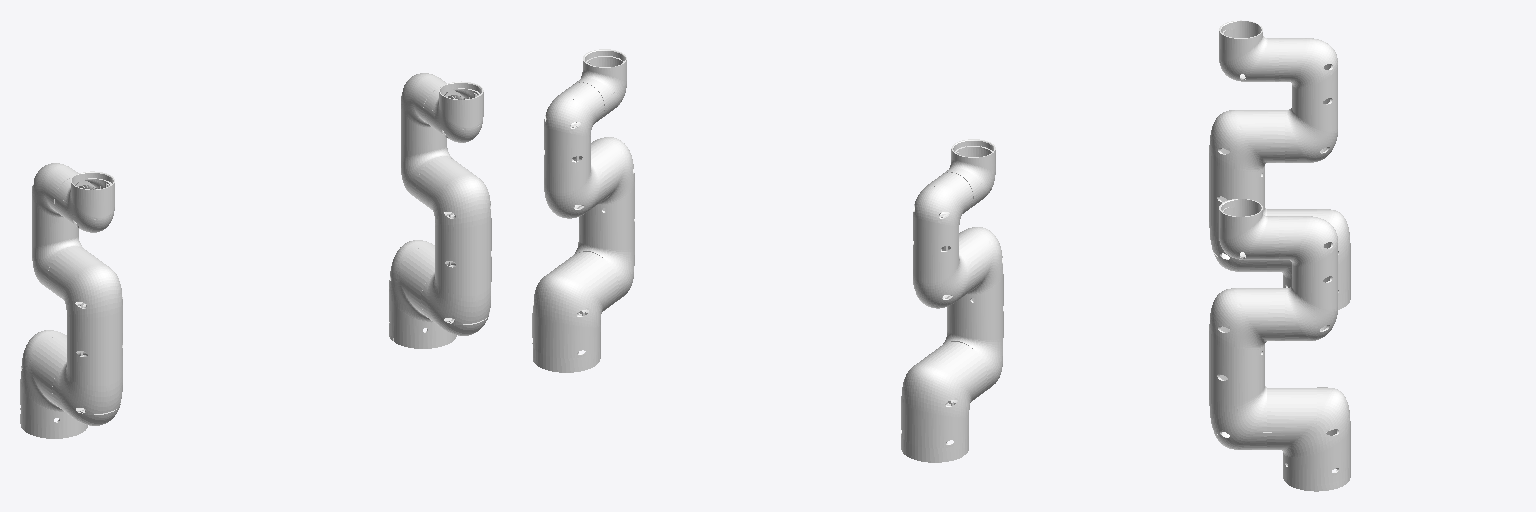
URDF robot description (dual_arm_robot):
<?xml version="1.0" ?>
<!-- =================================================================================== -->
<!-- |    This document was autogenerated by xacro from dual_arm_robot.xacro           | -->
<!-- |    EDITING THIS FILE BY HAND IS NOT RECOMMENDED                                 | -->
<!-- =================================================================================== -->
<robot name="dual_arm_robot">
  <!-- <!-\-ros_control -->
  <!-- plugin-\-> -->
  <!-- <gazebo> -->
  <!--   <plugin name="gazebo_ros_control" filename="libgazebo_ros_control.so" /> -->
  <!-- </gazebo> -->
  <!-- <!-\-joint_state_publisher -->
  <!-- plugin-\-> -->
  <!-- <gazebo> -->
  <!--   <plugin name="joint_state_publisher" filename="libgazebo_ros_joint_state_publisher.so"> -->
  <!--     <jointName>arm_joint_0, arm_joint_1, arm_joint_2, arm_joint_3, arm_joint_4, arm_joint_5</jointName> -->
  <!--   </plugin> -->
  <!-- </gazebo> -->
  <link name="world"/>
  <joint name="arm_a_world2base" type="fixed">
    <parent link="world"/>
    <child link="arm_a_base_link"/>
    <origin rpy="0 0 0" xyz="0 0 0"/>
  </joint>
  <link name="arm_a_base_link">
    <visual>
      <geometry>
        <mesh filename="package://mycobot_320_moveit/urdf/320_urdf/base.dae"/>
      </geometry>
      <origin rpy=" 0 0 3.1415926" xyz="0 0 0 "/>
    </visual>
    <collision>
      <origin rpy=" 0 0 3.1415926" xyz="0 0 0.05 "/>
      <geometry>
        <cylinder length="0.100" radius="0.0725"/>
      </geometry>
    </collision>
    <inertial>
      <mass value="1.0"/>
      <inertia ixx="0.00218" ixy="0.0" ixz="0.0" iyy="0.00218" iyz="0.0" izz="0.00263"/>
    </inertial>
  </link>
  <link name="arm_a_link1">
    <visual>
      <geometry>
        <mesh filename="package://mycobot_320_moveit/urdf/320_urdf/link1_1.dae"/>
      </geometry>
      <origin rpy=" 0 0 0" xyz="0 0 0 "/>
    </visual>
    <collision>
      <origin rpy=" 0 0 0" xyz="0 0 -0.02 "/>
      <geometry>
        <cylinder length="0.106" radius="0.043"/>
      </geometry>
    </collision>
    <inertial>
      <mass value="0.5"/>
      <inertia ixx="0.00070" ixy="0.0" ixz="0.0" iyy="0.00070" iyz="0.0" izz="0.00046"/>
    </inertial>
  </link>
  <link name="arm_a_link2">
    <visual>
      <geometry>
        <mesh filename="package://mycobot_320_moveit/urdf/320_urdf/link2.dae"/>
      </geometry>
      <origin rpy=" 0 0 3.1415926" xyz="0 0 0.0587 "/>
    </visual>
    <collision>
      <origin rpy="0 -1.5708 0" xyz="0.07 0 0.095 "/>
      <geometry>
        <cylinder length="0.18" radius="0.036"/>
      </geometry>
    </collision>
    <inertial>
      <mass value="0.7"/>
      <inertia ixx="0.00212" ixy="0.0" ixz="0.0" iyy="0.00212" iyz="0.0" izz="0.00045"/>
    </inertial>
  </link>
  <link name="arm_a_link3">
    <visual>
      <geometry>
        <mesh filename="package://mycobot_320_moveit/urdf/320_urdf/link3.dae"/>
      </geometry>
      <origin rpy=" 0 0 3.1415926" xyz="0 0 0.038 "/>
    </visual>
    <collision>
      <origin rpy=" 0 -1.5708 0" xyz="0.044 0 0 "/>
      <geometry>
        <cylinder length="0.14" radius="0.0305"/>
      </geometry>
    </collision>
    <inertial>
      <mass value="0.5"/>
      <inertia ixx="0.00093" ixy="0.0" ixz="0.0" iyy="0.00093" iyz="0.0" izz="0.00023"/>
    </inertial>
  </link>
  <link name="arm_a_link4">
    <visual>
      <geometry>
        <mesh filename="package://mycobot_320_moveit/urdf/320_urdf/link4.dae"/>
      </geometry>
      <origin rpy=" 0 0 0" xyz="0 -0.001 0 "/>
    </visual>
    <collision>
      <origin rpy=" 0 -1.5708 1.5708" xyz="0.0 -0.014 0 "/>
      <geometry>
        <cylinder length="0.083" radius="0.029"/>
      </geometry>
    </collision>
    <inertial>
      <mass value="0.2"/>
      <inertia ixx="0.00016" ixy="0.0" ixz="0.0" iyy="0.00016" iyz="0.0" izz="0.00008"/>
    </inertial>
  </link>
  <link name="arm_a_link5">
    <visual>
      <geometry>
        <mesh filename="package://mycobot_320_moveit/urdf/320_urdf/link5.dae"/>
      </geometry>
      <origin rpy=" 0  0 3.1415926" xyz="0 0.002  0 "/>
    </visual>
    <collision>
      <origin rpy=" 1.5708 1.5708 0" xyz="0 -0.01 0 "/>
      <geometry>
        <cylinder length="0.0849" radius="0.029"/>
      </geometry>
    </collision>
    <inertial>
      <mass value="0.2"/>
      <inertia ixx="0.00016" ixy="0.0" ixz="0.0" iyy="0.00016" iyz="0.0" izz="0.00008"/>
    </inertial>
  </link>
  <link name="arm_a_link6">
    <visual>
      <geometry>
        <mesh filename="package://mycobot_320_moveit/urdf/320_urdf/link6.dae"/>
      </geometry>
      <material name="grey">
        <color rgba="0.5 0.5 0.5 1"/>
      </material>
      <origin rpy=" 0 1.5708 0" xyz="-0.502 -0.090 -0.096 "/>
    </visual>
    <collision>
      <origin rpy=" 0 0 0" xyz="0.0 0 -0.01 "/>
      <geometry>
        <cylinder length="0.0225" radius="0.026"/>
      </geometry>
    </collision>
    <inertial>
      <mass value="0.2"/>
      <inertia ixx="0.00002" ixy="0.0" ixz="0.0" iyy="0.00002" iyz="0.0" izz="0.00003"/>
    </inertial>
  </link>
  <joint name="arm_a_arm_joint_0" type="revolute">
    <axis xyz="0 0 1"/>
    <limit effort="100.0" lower="-3.14" upper="3.14159" velocity="5"/>
    <parent link="arm_a_base_link"/>
    <child link="arm_a_link1"/>
    <origin rpy="0 0 0" xyz="0 0 0.17846"/>
  </joint>
  <joint name="arm_a_arm_joint_1" type="revolute">
    <axis xyz="0 0 1"/>
    <limit effort="100.0" lower="-3.14" upper="3.14159" velocity="5"/>
    <parent link="arm_a_link1"/>
    <child link="arm_a_link2"/>
    <origin rpy="0 -1.5708 1.5708" xyz="0 0 0"/>
  </joint>
  <joint name="arm_a_arm_joint_2" type="revolute">
    <axis xyz=" 0 0 1"/>
    <limit effort="100.0" lower="-3.14" upper="3.14159" velocity="5"/>
    <parent link="arm_a_link2"/>
    <child link="arm_a_link3"/>
    <origin rpy="0 0 0" xyz="0.13635 0 0   "/>
  </joint>
  <joint name="arm_a_arm_joint_3" type="revolute">
    <axis xyz=" 0 0 1"/>
    <limit effort="100.0" lower="-3.14" upper="3.14159" velocity="5"/>
    <parent link="arm_a_link3"/>
    <child link="arm_a_link4"/>
    <origin rpy=" 0 0 1.57080" xyz="0.1 0 0.09 "/>
  </joint>
  <joint name="arm_a_arm_joint_4" type="revolute">
    <axis xyz="0 0 1"/>
    <limit effort="100.0" lower="-3.14" upper="3.14159" velocity="5"/>
    <parent link="arm_a_link4"/>
    <child link="arm_a_link5"/>
    <origin rpy="1.5708 -1.5708 0" xyz="0 -0.07318 0"/>
  </joint>
  <joint name="arm_a_arm_joint_5" type="revolute">
    <axis xyz="0 0 1"/>
    <limit effort="100.0" lower="-3.14" upper="3.14159" velocity="5"/>
    <parent link="arm_a_link5"/>
    <child link="arm_a_link6"/>
    <origin rpy="-1.5708 0 0" xyz="0.00 0.06635 0"/>
  </joint>
  <transmission name="arm_a_arm_tran_0">
    <type>transmission_interface/SimpleTransmission</type>
    <joint name="arm_a_arm_joint_0">
      <hardwareInterface>hardware_interface/PositionJointInterface</hardwareInterface>
    </joint>
    <actuator name="arm_a_arm_motor_0">
      <hardwareInterface>PositionJointInterface</hardwareInterface>
      <mechanicalReduction>1</mechanicalReduction>
    </actuator>
  </transmission>
  <transmission name="arm_a_arm_tran_1">
    <type>transmission_interface/SimpleTransmission</type>
    <joint name="arm_a_arm_joint_1">
      <hardwareInterface>hardware_interface/PositionJointInterface</hardwareInterface>
    </joint>
    <actuator name="arm_a_arm_motor_1">
      <hardwareInterface>PositionJointInterface</hardwareInterface>
      <mechanicalReduction>1</mechanicalReduction>
    </actuator>
  </transmission>
  <transmission name="arm_a_arm_tran_2">
    <type>transmission_interface/SimpleTransmission</type>
    <joint name="arm_a_arm_joint_2">
      <hardwareInterface>hardware_interface/PositionJointInterface</hardwareInterface>
    </joint>
    <actuator name="arm_a_arm_motor_2">
      <hardwareInterface>PositionJointInterface</hardwareInterface>
      <mechanicalReduction>1</mechanicalReduction>
    </actuator>
  </transmission>
  <transmission name="arm_a_arm_tran_3">
    <type>transmission_interface/SimpleTransmission</type>
    <joint name="arm_a_arm_joint_3">
      <hardwareInterface>hardware_interface/PositionJointInterface</hardwareInterface>
    </joint>
    <actuator name="arm_a_arm_motor_3">
      <hardwareInterface>PositionJointInterface</hardwareInterface>
      <mechanicalReduction>1</mechanicalReduction>
    </actuator>
  </transmission>
  <transmission name="arm_a_arm_tran_4">
    <type>transmission_interface/SimpleTransmission</type>
    <joint name="arm_a_arm_joint_4">
      <hardwareInterface>hardware_interface/PositionJointInterface</hardwareInterface>
    </joint>
    <actuator name="arm_a_arm_motor_4">
      <hardwareInterface>PositionJointInterface</hardwareInterface>
      <mechanicalReduction>1</mechanicalReduction>
    </actuator>
  </transmission>
  <transmission name="arm_a_arm_tran_5">
    <type>transmission_interface/SimpleTransmission</type>
    <joint name="arm_a_arm_joint_5">
      <hardwareInterface>hardware_interface/PositionJointInterface</hardwareInterface>
    </joint>
    <actuator name="arm_a_arm_motor_5">
      <hardwareInterface>PositionJointInterface</hardwareInterface>
      <mechanicalReduction>1</mechanicalReduction>
    </actuator>
  </transmission>
  <joint name="arm_b_world2base" type="fixed">
    <parent link="world"/>
    <child link="arm_b_base_link"/>
    <origin rpy="0 0 0" xyz="0.5 0 0"/>
  </joint>
  <link name="arm_b_base_link">
    <visual>
      <geometry>
        <mesh filename="package://mycobot_320_moveit/urdf/320_urdf/base.dae"/>
      </geometry>
      <origin rpy=" 0 0 3.1415926" xyz="0 0 0 "/>
    </visual>
    <collision>
      <origin rpy=" 0 0 3.1415926" xyz="0 0 0.05 "/>
      <geometry>
        <cylinder length="0.100" radius="0.0725"/>
      </geometry>
    </collision>
    <inertial>
      <mass value="1.0"/>
      <inertia ixx="0.00218" ixy="0.0" ixz="0.0" iyy="0.00218" iyz="0.0" izz="0.00263"/>
    </inertial>
  </link>
  <link name="arm_b_link1">
    <visual>
      <geometry>
        <mesh filename="package://mycobot_320_moveit/urdf/320_urdf/link1_1.dae"/>
      </geometry>
      <origin rpy=" 0 0 0" xyz="0 0 0 "/>
    </visual>
    <collision>
      <origin rpy=" 0 0 0" xyz="0 0 -0.02 "/>
      <geometry>
        <cylinder length="0.106" radius="0.043"/>
      </geometry>
    </collision>
    <inertial>
      <mass value="0.5"/>
      <inertia ixx="0.00070" ixy="0.0" ixz="0.0" iyy="0.00070" iyz="0.0" izz="0.00046"/>
    </inertial>
  </link>
  <link name="arm_b_link2">
    <visual>
      <geometry>
        <mesh filename="package://mycobot_320_moveit/urdf/320_urdf/link2.dae"/>
      </geometry>
      <origin rpy=" 0 0 3.1415926" xyz="0 0 0.0587 "/>
    </visual>
    <collision>
      <origin rpy="0 -1.5708 0" xyz="0.07 0 0.095 "/>
      <geometry>
        <cylinder length="0.18" radius="0.036"/>
      </geometry>
    </collision>
    <inertial>
      <mass value="0.7"/>
      <inertia ixx="0.00212" ixy="0.0" ixz="0.0" iyy="0.00212" iyz="0.0" izz="0.00045"/>
    </inertial>
  </link>
  <link name="arm_b_link3">
    <visual>
      <geometry>
        <mesh filename="package://mycobot_320_moveit/urdf/320_urdf/link3.dae"/>
      </geometry>
      <origin rpy=" 0 0 3.1415926" xyz="0 0 0.038 "/>
    </visual>
    <collision>
      <origin rpy=" 0 -1.5708 0" xyz="0.044 0 0 "/>
      <geometry>
        <cylinder length="0.14" radius="0.0305"/>
      </geometry>
    </collision>
    <inertial>
      <mass value="0.5"/>
      <inertia ixx="0.00093" ixy="0.0" ixz="0.0" iyy="0.00093" iyz="0.0" izz="0.00023"/>
    </inertial>
  </link>
  <link name="arm_b_link4">
    <visual>
      <geometry>
        <mesh filename="package://mycobot_320_moveit/urdf/320_urdf/link4.dae"/>
      </geometry>
      <origin rpy=" 0 0 0" xyz="0 -0.001 0 "/>
    </visual>
    <collision>
      <origin rpy=" 0 -1.5708 1.5708" xyz="0.0 -0.014 0 "/>
      <geometry>
        <cylinder length="0.083" radius="0.029"/>
      </geometry>
    </collision>
    <inertial>
      <mass value="0.2"/>
      <inertia ixx="0.00016" ixy="0.0" ixz="0.0" iyy="0.00016" iyz="0.0" izz="0.00008"/>
    </inertial>
  </link>
  <link name="arm_b_link5">
    <visual>
      <geometry>
        <mesh filename="package://mycobot_320_moveit/urdf/320_urdf/link5.dae"/>
      </geometry>
      <origin rpy=" 0  0 3.1415926" xyz="0 0.002  0 "/>
    </visual>
    <collision>
      <origin rpy=" 1.5708 1.5708 0" xyz="0 -0.01 0 "/>
      <geometry>
        <cylinder length="0.0849" radius="0.029"/>
      </geometry>
    </collision>
    <inertial>
      <mass value="0.2"/>
      <inertia ixx="0.00016" ixy="0.0" ixz="0.0" iyy="0.00016" iyz="0.0" izz="0.00008"/>
    </inertial>
  </link>
  <link name="arm_b_link6">
    <visual>
      <geometry>
        <mesh filename="package://mycobot_320_moveit/urdf/320_urdf/link6.dae"/>
      </geometry>
      <material name="grey">
        <color rgba="0.5 0.5 0.5 1"/>
      </material>
      <origin rpy=" 0 1.5708 0" xyz="-0.502 -0.090 -0.096 "/>
    </visual>
    <collision>
      <origin rpy=" 0 0 0" xyz="0.0 0 -0.01 "/>
      <geometry>
        <cylinder length="0.0225" radius="0.026"/>
      </geometry>
    </collision>
    <inertial>
      <mass value="0.2"/>
      <inertia ixx="0.00002" ixy="0.0" ixz="0.0" iyy="0.00002" iyz="0.0" izz="0.00003"/>
    </inertial>
  </link>
  <joint name="arm_b_arm_joint_0" type="revolute">
    <axis xyz="0 0 1"/>
    <limit effort="100.0" lower="-3.14" upper="3.14159" velocity="5"/>
    <parent link="arm_b_base_link"/>
    <child link="arm_b_link1"/>
    <origin rpy="0 0 0" xyz="0 0 0.17846"/>
  </joint>
  <joint name="arm_b_arm_joint_1" type="revolute">
    <axis xyz="0 0 1"/>
    <limit effort="100.0" lower="-3.14" upper="3.14159" velocity="5"/>
    <parent link="arm_b_link1"/>
    <child link="arm_b_link2"/>
    <origin rpy="0 -1.5708 1.5708" xyz="0 0 0"/>
  </joint>
  <joint name="arm_b_arm_joint_2" type="revolute">
    <axis xyz=" 0 0 1"/>
    <limit effort="100.0" lower="-3.14" upper="3.14159" velocity="5"/>
    <parent link="arm_b_link2"/>
    <child link="arm_b_link3"/>
    <origin rpy="0 0 0" xyz="0.13635 0 0   "/>
  </joint>
  <joint name="arm_b_arm_joint_3" type="revolute">
    <axis xyz=" 0 0 1"/>
    <limit effort="100.0" lower="-3.14" upper="3.14159" velocity="5"/>
    <parent link="arm_b_link3"/>
    <child link="arm_b_link4"/>
    <origin rpy=" 0 0 1.57080" xyz="0.1 0 0.09 "/>
  </joint>
  <joint name="arm_b_arm_joint_4" type="revolute">
    <axis xyz="0 0 1"/>
    <limit effort="100.0" lower="-3.14" upper="3.14159" velocity="5"/>
    <parent link="arm_b_link4"/>
    <child link="arm_b_link5"/>
    <origin rpy="1.5708 -1.5708 0" xyz="0 -0.07318 0"/>
  </joint>
  <joint name="arm_b_arm_joint_5" type="revolute">
    <axis xyz="0 0 1"/>
    <limit effort="100.0" lower="-3.14" upper="3.14159" velocity="5"/>
    <parent link="arm_b_link5"/>
    <child link="arm_b_link6"/>
    <origin rpy="-1.5708 0 0" xyz="0.00 0.06635 0"/>
  </joint>
  <transmission name="arm_b_arm_tran_0">
    <type>transmission_interface/SimpleTransmission</type>
    <joint name="arm_b_arm_joint_0">
      <hardwareInterface>hardware_interface/PositionJointInterface</hardwareInterface>
    </joint>
    <actuator name="arm_b_arm_motor_0">
      <hardwareInterface>PositionJointInterface</hardwareInterface>
      <mechanicalReduction>1</mechanicalReduction>
    </actuator>
  </transmission>
  <transmission name="arm_b_arm_tran_1">
    <type>transmission_interface/SimpleTransmission</type>
    <joint name="arm_b_arm_joint_1">
      <hardwareInterface>hardware_interface/PositionJointInterface</hardwareInterface>
    </joint>
    <actuator name="arm_b_arm_motor_1">
      <hardwareInterface>PositionJointInterface</hardwareInterface>
      <mechanicalReduction>1</mechanicalReduction>
    </actuator>
  </transmission>
  <transmission name="arm_b_arm_tran_2">
    <type>transmission_interface/SimpleTransmission</type>
    <joint name="arm_b_arm_joint_2">
      <hardwareInterface>hardware_interface/PositionJointInterface</hardwareInterface>
    </joint>
    <actuator name="arm_b_arm_motor_2">
      <hardwareInterface>PositionJointInterface</hardwareInterface>
      <mechanicalReduction>1</mechanicalReduction>
    </actuator>
  </transmission>
  <transmission name="arm_b_arm_tran_3">
    <type>transmission_interface/SimpleTransmission</type>
    <joint name="arm_b_arm_joint_3">
      <hardwareInterface>hardware_interface/PositionJointInterface</hardwareInterface>
    </joint>
    <actuator name="arm_b_arm_motor_3">
      <hardwareInterface>PositionJointInterface</hardwareInterface>
      <mechanicalReduction>1</mechanicalReduction>
    </actuator>
  </transmission>
  <transmission name="arm_b_arm_tran_4">
    <type>transmission_interface/SimpleTransmission</type>
    <joint name="arm_b_arm_joint_4">
      <hardwareInterface>hardware_interface/PositionJointInterface</hardwareInterface>
    </joint>
    <actuator name="arm_b_arm_motor_4">
      <hardwareInterface>PositionJointInterface</hardwareInterface>
      <mechanicalReduction>1</mechanicalReduction>
    </actuator>
  </transmission>
  <transmission name="arm_b_arm_tran_5">
    <type>transmission_interface/SimpleTransmission</type>
    <joint name="arm_b_arm_joint_5">
      <hardwareInterface>hardware_interface/PositionJointInterface</hardwareInterface>
    </joint>
    <actuator name="arm_b_arm_motor_5">
      <hardwareInterface>PositionJointInterface</hardwareInterface>
      <mechanicalReduction>1</mechanicalReduction>
    </actuator>
  </transmission>
  <gazebo>
    <plugin filename="libgazebo_ros_control.so" name="gazebo_ros_control"/>
  </gazebo>
  <plugin filename="libgazebo_ros_joint_state_publisher.so" name="arm_a_joint_state_publisher">
    <robotNamespace>/arm_a</robotNamespace>
    <jointName>arm_a_arm_joint_0, arm_a_arm_joint_1, arm_a_arm_joint_2, arm_a_arm_joint_3, arm_a_arm_joint_4, arm_a_arm_joint_5</jointName>
  </plugin>
</robot>

--- Facts derived from the render (not from the file) ---
Views: 3 orthographic renders of the robot side by side, from view 1: azimuth 30°, elevation 25°; view 2: azimuth 150°, elevation 25°; view 3: azimuth 270°, elevation 25°.
Model dual_arm_robot with 15 links and 14 joints (12 revolute, 2 fixed), rooted at world, posed every joint at zero.
Links seen in each view (by area): view 1: arm_b_link2, arm_a_link2, arm_a_link1, arm_b_link1, arm_a_link3, arm_b_link3, arm_b_link4, arm_a_link4; view 2: arm_b_link1, arm_a_link1, arm_b_link3, arm_a_link3, arm_a_link2, arm_b_link2, arm_a_link4, arm_b_link4; view 3: arm_b_link2, arm_b_link1, arm_a_link2, arm_a_link3, arm_b_link3, arm_a_link4, arm_b_link4, arm_a_link1.
Link boxes in pixels (x1,y1,x2,y2): arm_b_link2: [416, 157, 491, 335]; arm_a_link2: [48, 247, 122, 425]; arm_a_link1: [20, 330, 87, 438]; arm_b_link1: [389, 240, 456, 348]; arm_a_link3: [32, 163, 89, 292]; arm_b_link3: [401, 73, 458, 201]; arm_b_link4: [423, 81, 483, 142]; arm_a_link4: [55, 171, 114, 232]; arm_b_link1: [532, 252, 618, 372]; arm_a_link1: [901, 342, 987, 462]; arm_b_link3: [544, 82, 605, 218]; arm_a_link3: [913, 172, 974, 308]; arm_a_link2: [943, 227, 1003, 393]; arm_b_link2: [574, 137, 634, 304]; arm_a_link4: [943, 139, 995, 207]; arm_b_link4: [573, 49, 626, 118]; arm_b_link2: [1209, 288, 1284, 449]; arm_b_link1: [1267, 387, 1350, 491]; arm_a_link2: [1209, 110, 1284, 271]; arm_a_link3: [1279, 38, 1337, 162]; arm_b_link3: [1279, 216, 1337, 340]; arm_a_link4: [1219, 20, 1278, 81]; arm_b_link4: [1219, 199, 1278, 259]; arm_a_link1: [1267, 209, 1350, 309].
Bounding box of the posed robot: 0.58 × 0.1675 × 0.3523 m (x, y, z).
8 mesh visuals loaded from 7 distinct referenced files (4 Collada DAE); not drawn: 6 (reference not matched to a file when rendering).